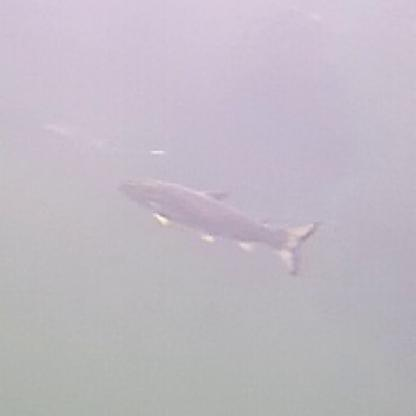salmon: (114, 175, 321, 274)
